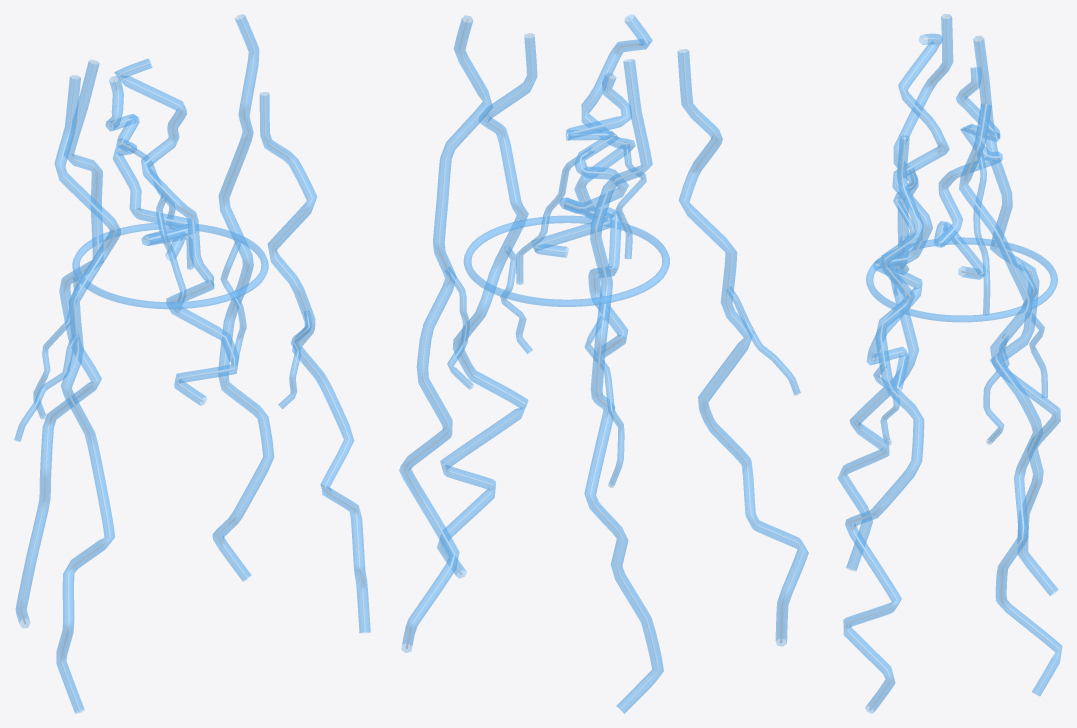
The model's file is fx_lightning.glb.
3 renders of one model, left to right at view 1: azimuth 30°, elevation 25°; view 2: azimuth 150°, elevation 25°; view 3: azimuth 270°, elevation 25°, orthographic. The views are drawn at different scales.
Visible parts, largest first — view 1: Bolt1, Bolt4, Bolt3, Bolt2, Bolt5, Bolt0, FlashRing; view 2: Bolt3, Bolt4, Bolt1, Bolt2, Bolt5, Bolt0, FlashRing; view 3: Bolt2, Bolt4, Bolt3, Bolt1, Bolt5, Bolt0, FlashRing.
Boxes of the visible parts, <box> form: Bolt1: <box>14,75,120,713</box>; Bolt4: <box>212,14,274,581</box>; Bolt3: <box>15,60,103,627</box>; Bolt2: <box>259,92,370,632</box>; Bolt5: <box>114,58,239,405</box>; Bolt0: <box>105,76,195,269</box>; FlashRing: <box>72,222,268,309</box>; Bolt3: <box>584,59,663,713</box>; Bolt4: <box>399,15,492,652</box>; Bolt1: <box>677,49,808,646</box>; Bolt2: <box>437,33,537,578</box>; Bolt5: <box>574,14,652,356</box>; Bolt0: <box>516,73,631,284</box>; FlashRing: <box>463,215,669,306</box>; Bolt2: <box>843,135,924,713</box>; Bolt4: <box>959,103,1062,696</box>; Bolt3: <box>973,36,1060,595</box>; Bolt1: <box>837,14,953,570</box>; Bolt5: <box>866,33,949,390</box>; Bolt0: <box>934,67,1002,314</box>; FlashRing: <box>866,237,1057,322</box>.
Size of the model in its own units: 2.13 by 3.52 by 1.22.
